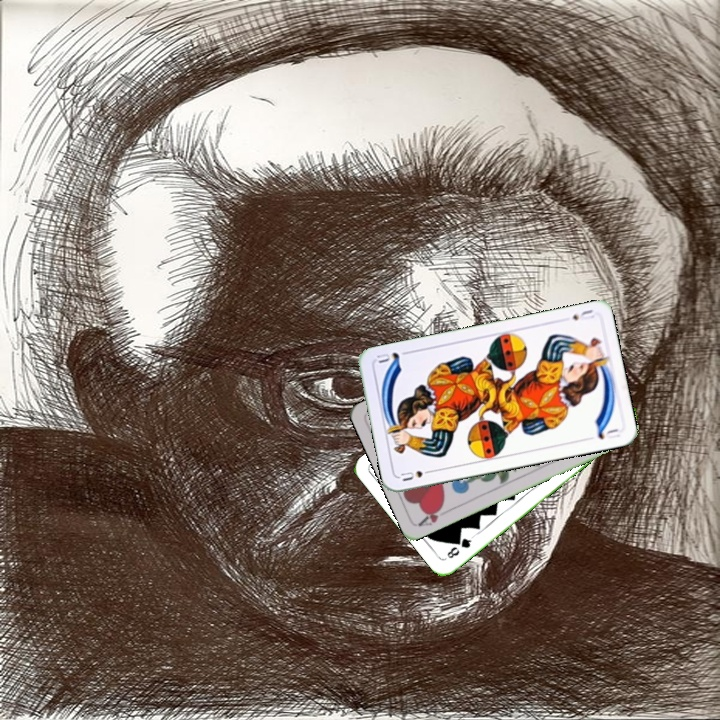G8: (443, 532, 476, 561)
HA: (415, 501, 453, 529)
SU: (397, 465, 436, 484), (568, 305, 597, 323)
